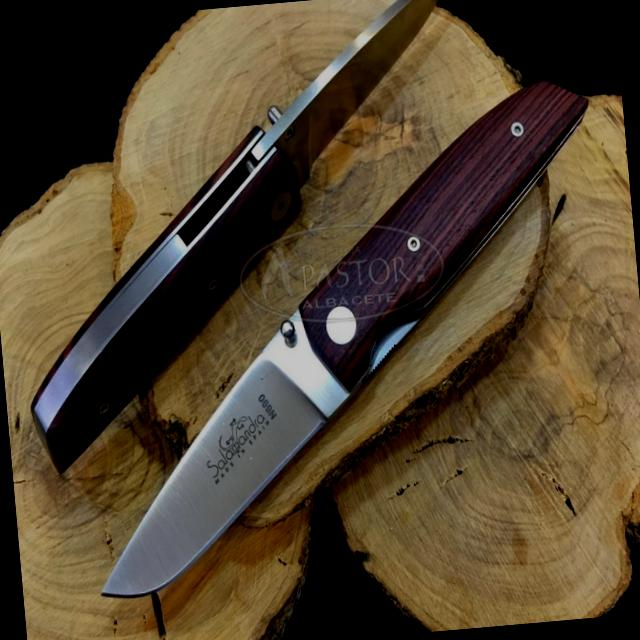knife: (63, 287, 378, 605)
